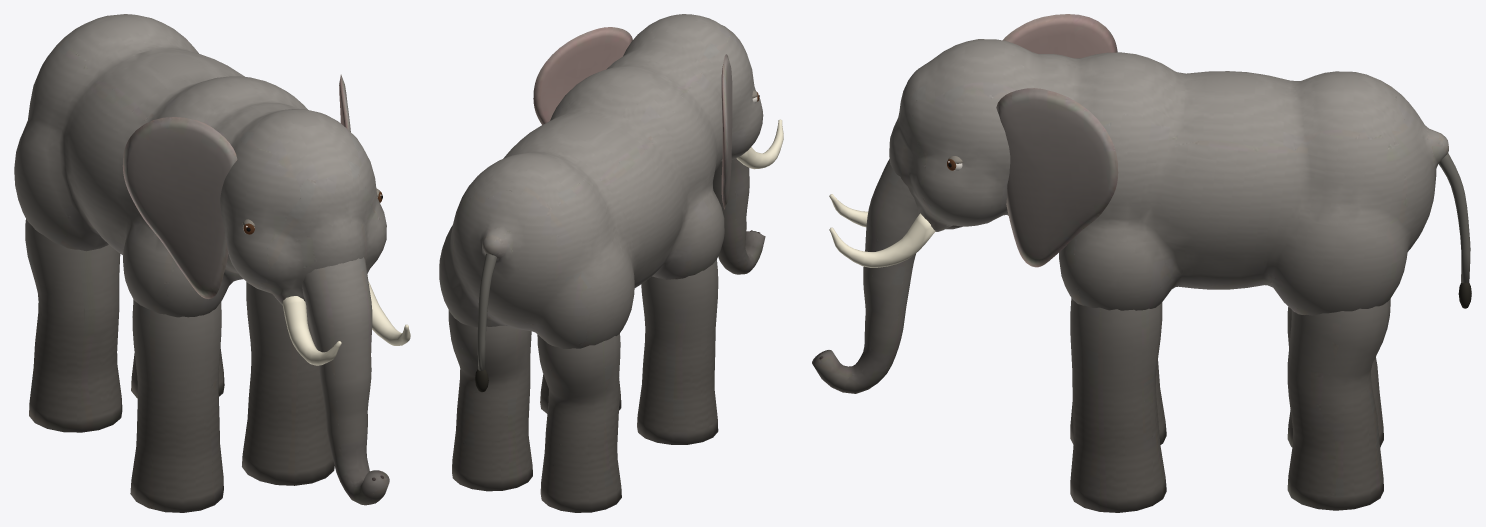
Rendered from elephant.glb.
3 views of the same model, side by side, from view 1: azimuth 30°, elevation 25°; view 2: azimuth 150°, elevation 25°; view 3: azimuth 270°, elevation 25° (orthographic). The views are drawn at different scales.
Parts seen in each view (by area): view 1: body, legFR, legBR, earR, legFL, trunk; view 2: body, legBR, legFR, legBL, earL, trunk, earR; view 3: body, legFL, legBL, earL, trunk, earR, legBR.
Part boxes in pixels (box(x1,y1,x2,y2)): body: box(14, 14, 410, 365); legFR: box(130, 299, 223, 512); legBR: box(25, 219, 122, 432); earR: box(122, 117, 237, 298); legFL: box(242, 282, 334, 485); trunk: box(302, 257, 389, 505); body: box(439, 14, 783, 392); legBR: box(537, 333, 621, 512); legFR: box(637, 259, 718, 444); legBL: box(448, 310, 532, 491); earL: box(533, 27, 632, 124); trunk: box(713, 158, 765, 274); earR: box(721, 54, 732, 209); body: box(829, 39, 1471, 315); legFL: box(1070, 298, 1166, 512); legBL: box(1287, 299, 1390, 510); earL: box(996, 88, 1118, 267); trunk: box(812, 159, 918, 393); earR: box(1003, 14, 1117, 58); legBR: box(1287, 307, 1383, 447).
Bounding box in the file's own units: 2.38 × 4.26 × 6.01.
Materials: 9 (9 with a texture image).
